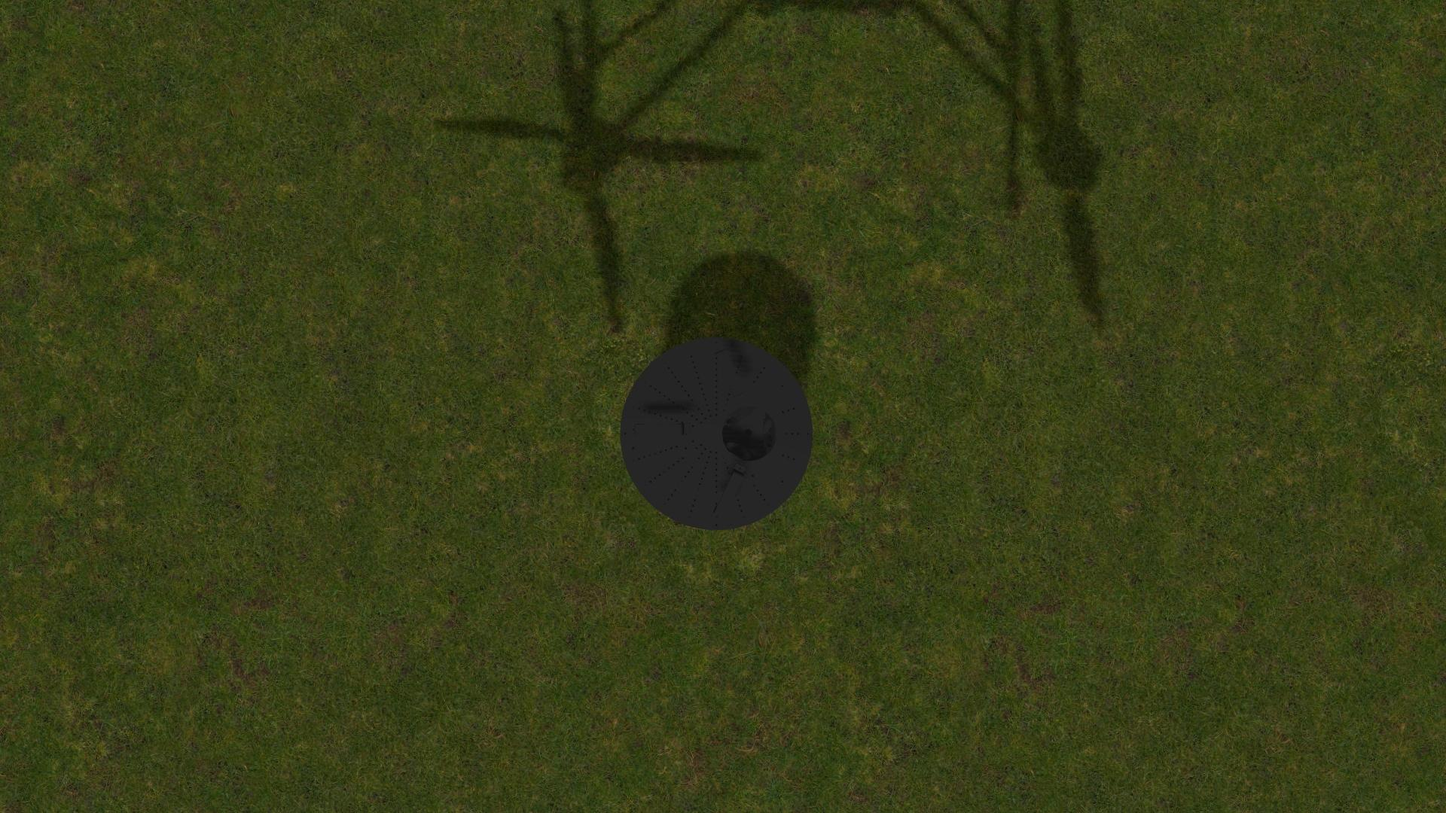alca: (711, 462, 747, 522), (713, 344, 747, 402), (630, 422, 690, 437)
armadilha: (620, 336, 813, 531)
